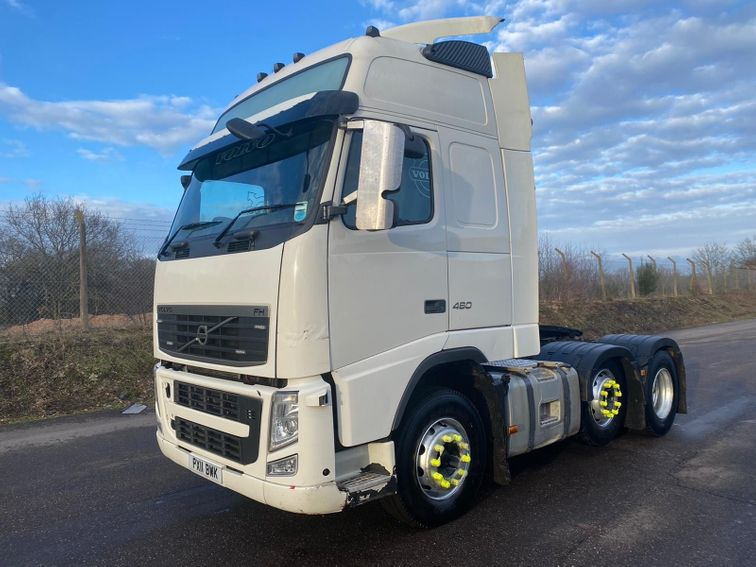Semi: (151, 15, 687, 528)
